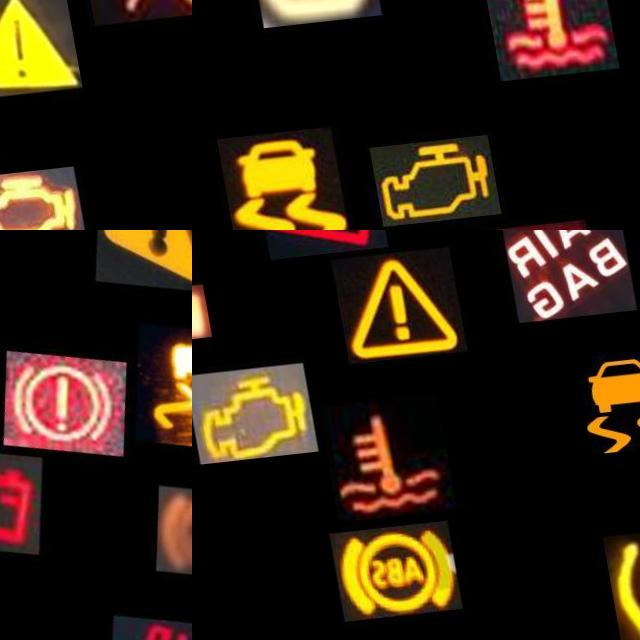Central Warning lamp: (324, 256, 457, 370), (73, 230, 192, 312), (0, 0, 66, 107)
Engine cooling system: (307, 403, 441, 528), (474, 0, 607, 89)
